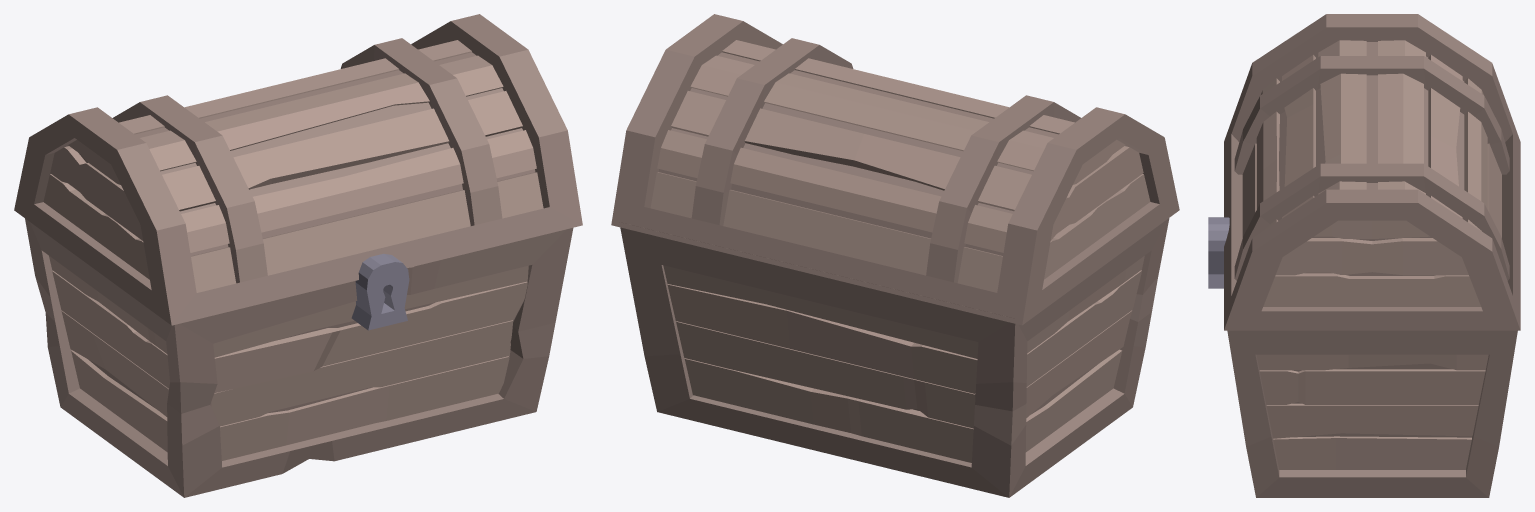
The model's file is wooden_chest.glb.
3 views of the same model, side by side, from view 1: azimuth 30°, elevation 25°; view 2: azimuth 150°, elevation 25°; view 3: azimuth 270°, elevation 25° (orthographic). The views are drawn at different scales.
Parts seen in each view (by area): view 1: Chest_Top, Chest_Base; view 2: Chest_Top, Chest_Base; view 3: Chest_Top, Chest_Base.
Part boxes in pixels (bbox=[...]): Chest_Top: bbox=[14, 14, 582, 325]; Chest_Base: bbox=[25, 218, 573, 497]; Chest_Top: bbox=[611, 14, 1179, 325]; Chest_Base: bbox=[620, 218, 1169, 497]; Chest_Top: bbox=[1224, 14, 1520, 330]; Chest_Base: bbox=[1208, 217, 1517, 497].
Bounding box in the file's own units: 1.18 × 0.8985 × 0.8238.
